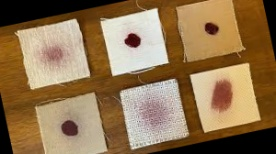wine: (135, 93, 176, 133), (206, 75, 240, 118), (37, 42, 78, 75), (60, 117, 85, 140), (120, 28, 143, 50), (199, 19, 218, 40)
